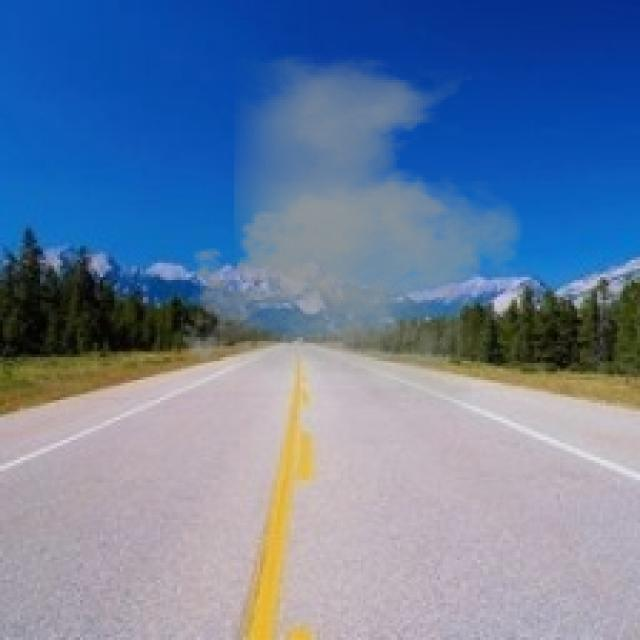smoke: (169, 54, 537, 409)
